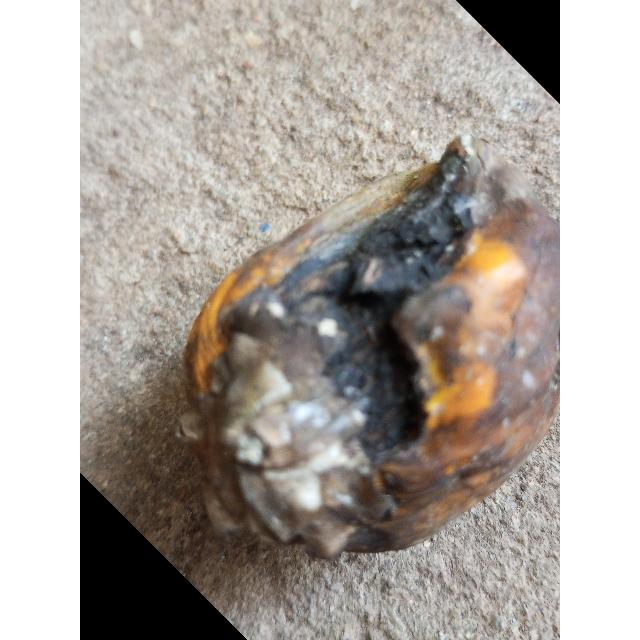damaged: (174, 137, 560, 565)
